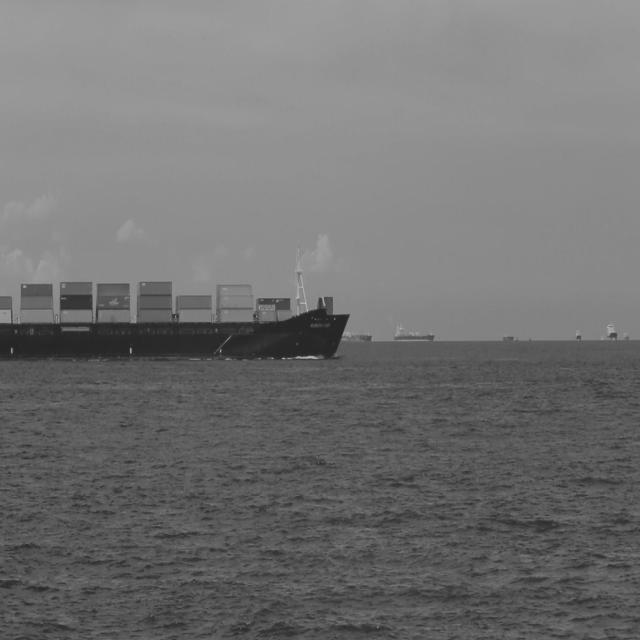ship: (0, 248, 352, 362), (394, 316, 438, 342), (342, 318, 377, 342)
